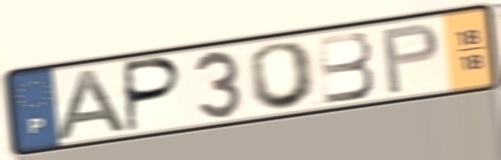3: (192, 47, 243, 122)
A: (52, 66, 133, 143)
B: (315, 29, 379, 107)
O: (247, 39, 321, 112)
P: (123, 55, 186, 136), (378, 20, 443, 97)
